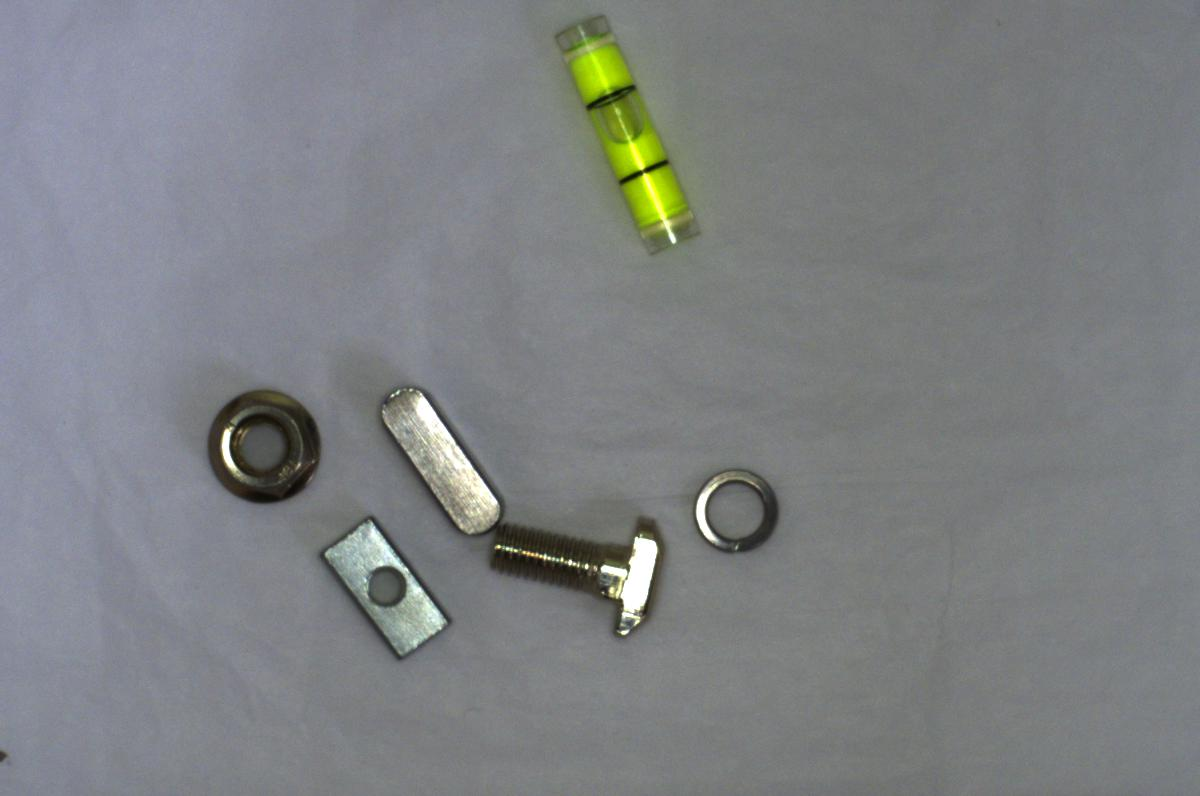Flange nut: (198, 379, 325, 507)
Horizontal bubble: (544, 8, 705, 261)
Keybar: (371, 380, 507, 540)
Rectangular nut: (320, 509, 451, 661)
Spring washer: (687, 459, 790, 559)
T-shaped screw: (478, 516, 674, 645)
